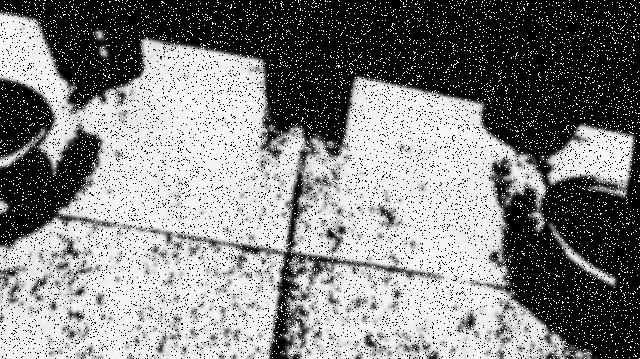pot: (525, 175, 628, 350), (0, 77, 56, 243), (35, 18, 145, 88), (262, 58, 357, 118), (481, 104, 581, 154)
